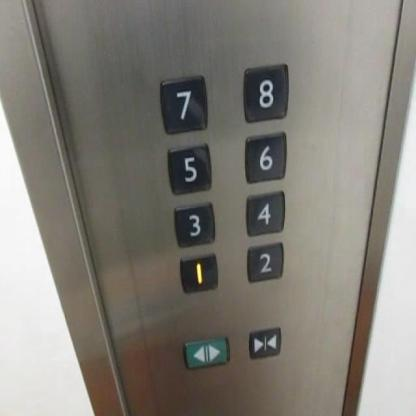1: (177, 251, 219, 294)
2: (244, 239, 284, 285)
3: (173, 201, 214, 247)
4: (245, 188, 284, 237)
5: (166, 142, 211, 194)
6: (244, 130, 286, 184)
7: (158, 74, 206, 134)
8: (242, 62, 288, 123)
close: (245, 324, 282, 360)
open: (183, 333, 230, 369)
